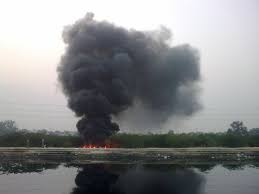smoke: (66, 29, 164, 112)
